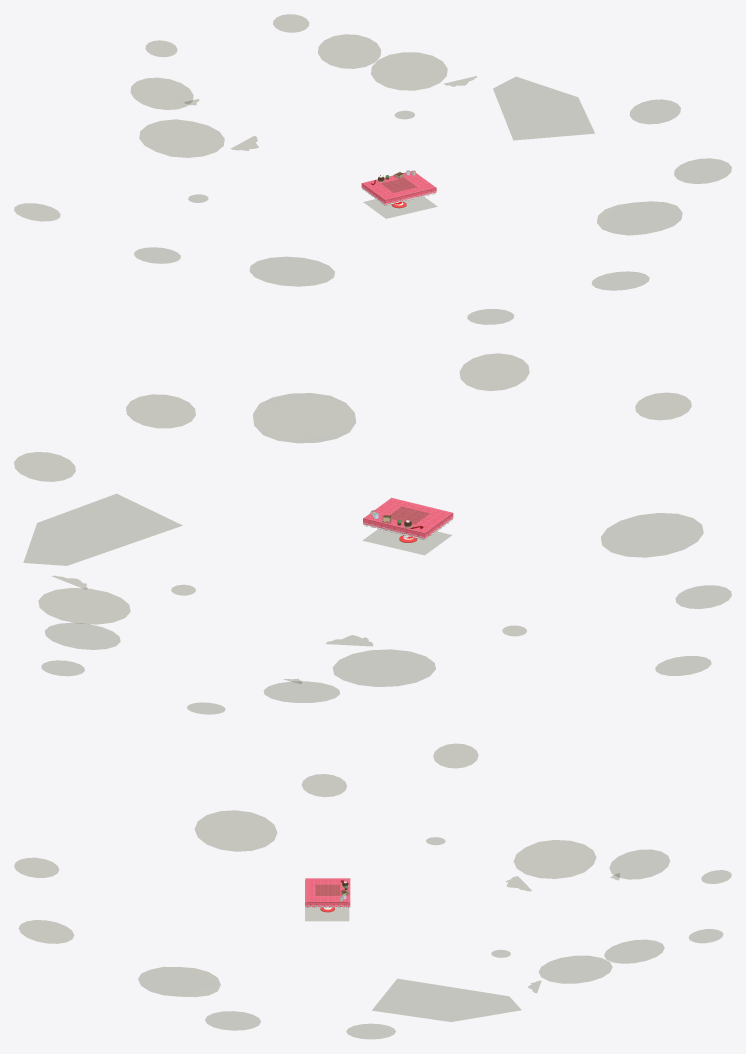
File: Candy_Table.glb
The picture shows the model from 3 angles, top to bottom: view 1: azimuth 30°, elevation 25°; view 2: azimuth 150°, elevation 25°; view 3: azimuth 270°, elevation 25°; orthographic projection. The views are drawn at different scales.
Visible parts, largest first — view 1: Candy_Shadow, Candy_Table; view 2: Candy_Shadow, Candy_Table; view 3: Candy_Shadow, Candy_Table.
Boxes of the visible parts, x1,y1,x2,y2 form: Candy_Shadow: (14,14,731,324); Candy_Table: (361,171,436,208); Candy_Shadow: (14,353,731,714); Candy_Table: (363,497,453,542); Candy_Shadow: (14,744,731,1038); Candy_Table: (305,878,350,912).
Size of the model in its own units: 62.78 by 2.47 by 65.99.
Materials: 3 (3 with a texture image).
